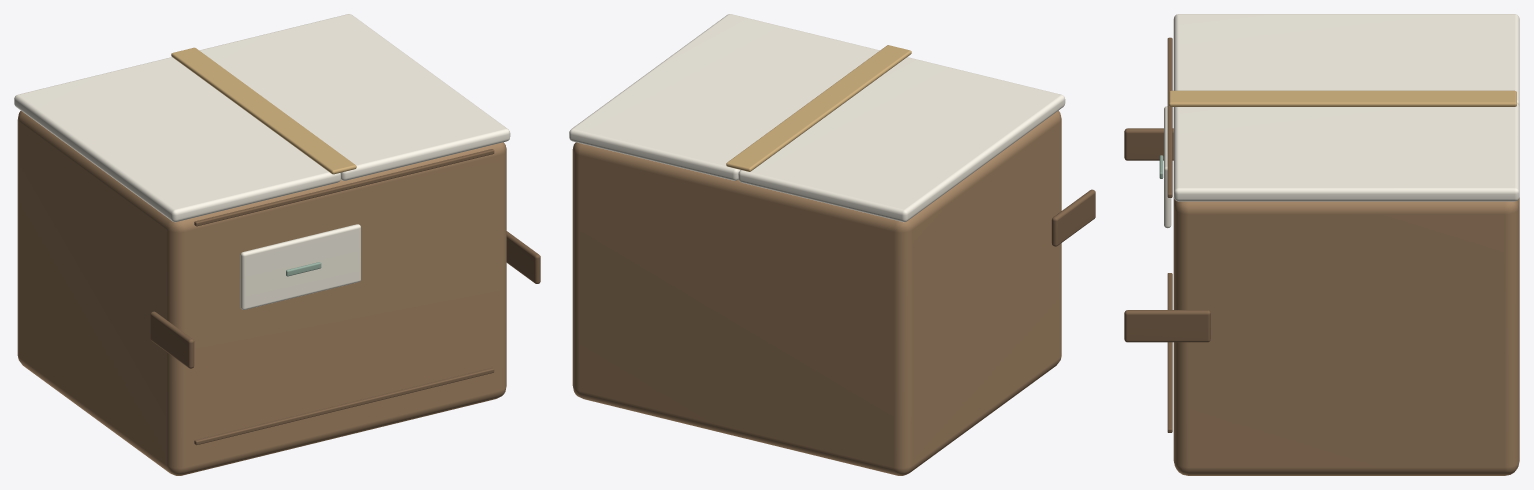
Rendered from storage_box.glb.
3 renders of one model, left to right at view 1: azimuth 30°, elevation 25°; view 2: azimuth 150°, elevation 25°; view 3: azimuth 270°, elevation 25°, orthographic. The views are drawn at different scales.
Visible parts, largest first — view 1: Cardboard box, Top flap left, Top flap right, Shipping label, Tape strip, Fold seam.001, Fold seam, Hand slot, Hand slot.001; view 2: Cardboard box, Top flap left, Top flap right, Tape strip, Hand slot; view 3: Cardboard box, Top flap right, Top flap left, Tape strip, Hand slot.001, Hand slot, Fold seam.001, Fold seam, Shipping label.
Part boxes in pixels (x1,y1,x2,y2): Cardboard box: (17,111,506,475); Top flap left: (14,57,340,222); Top flap right: (199,14,510,180); Shipping label: (240,224,360,309); Tape strip: (171,47,356,174); Fold seam.001: (194,149,494,226); Fold seam: (194,367,494,445); Hand slot: (150,311,194,368); Hand slot.001: (506,231,540,283); Cardboard box: (572,110,1061,475); Top flap left: (738,57,1065,222); Top flap right: (569,14,879,180); Tape strip: (726,45,911,171); Hand slot: (1051,189,1095,246); Cardboard box: (1173,197,1519,475); Top flap right: (1173,103,1519,201); Top flap left: (1173,14,1519,106); Tape strip: (1169,90,1516,106); Hand slot.001: (1124,310,1210,342); Hand slot: (1124,128,1173,160); Fold seam.001: (1167,37,1172,197); Fold seam: (1167,273,1172,432); Shipping label: (1164,106,1171,228).
Size of the model in its own units: 0.354 by 0.264 by 0.32.
